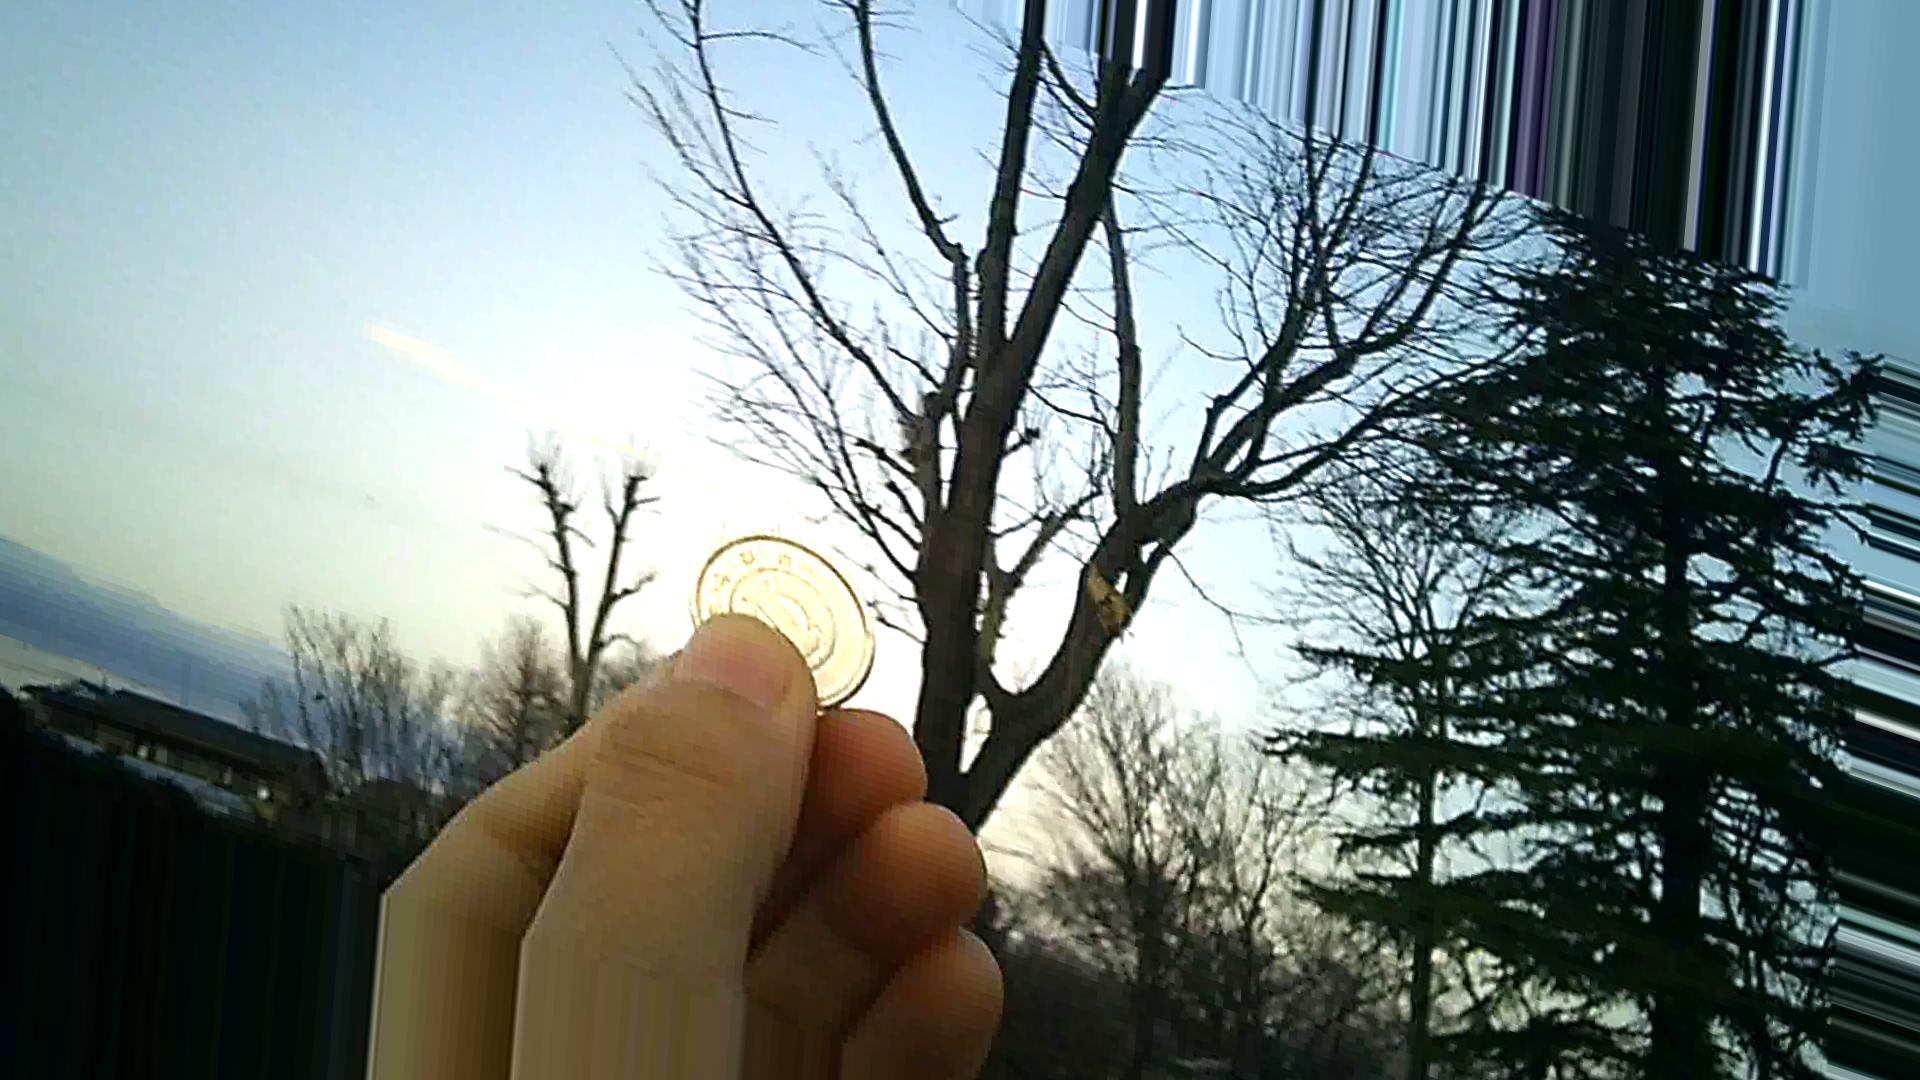1 Yen: (684, 520, 880, 707)
